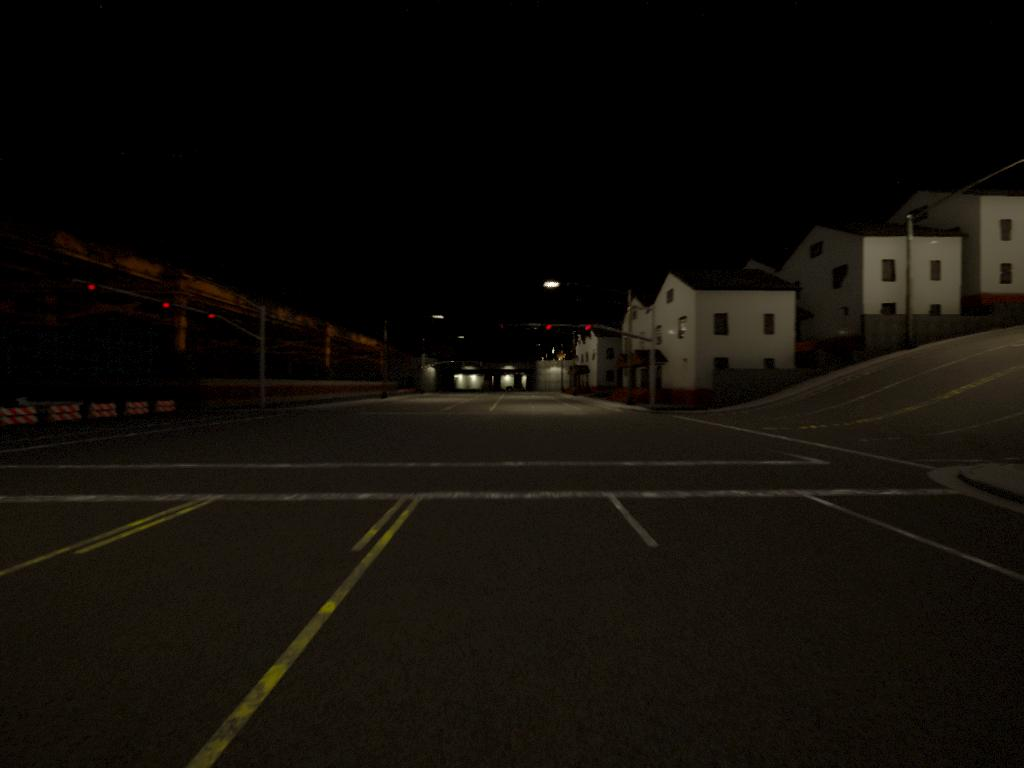traffic_light: (161, 301, 175, 317), (86, 281, 100, 297), (544, 323, 556, 340), (207, 313, 218, 327), (585, 326, 596, 339), (498, 321, 508, 335)
